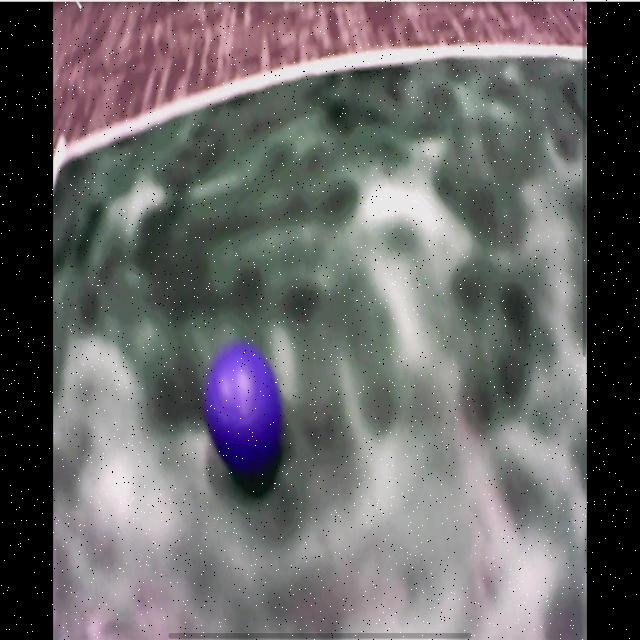ball: (208, 346, 281, 476)
